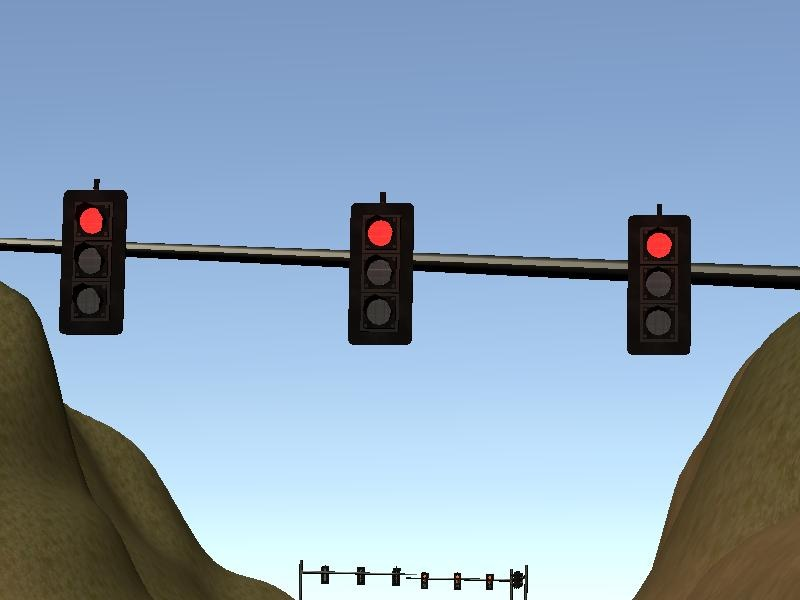RED: (59, 189, 128, 336), (347, 201, 416, 348), (625, 213, 692, 354)
